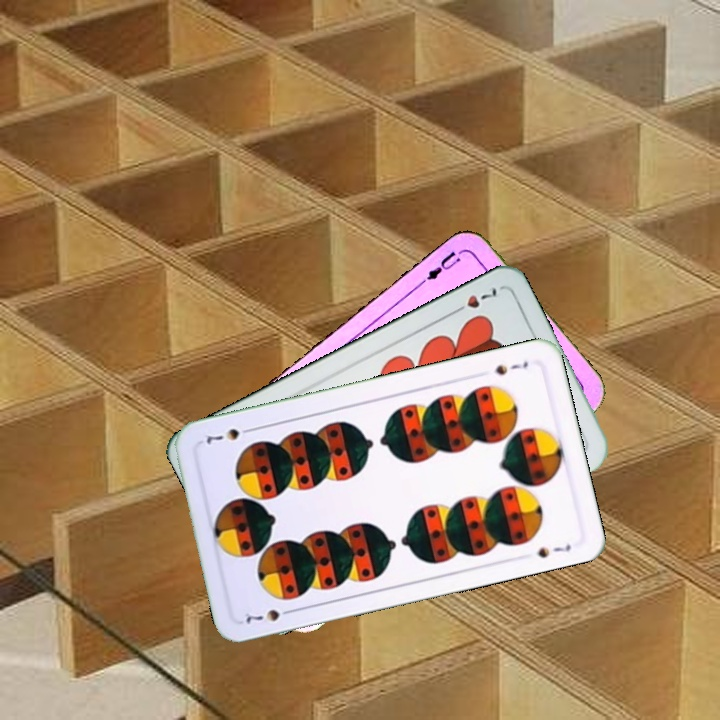EU: (419, 244, 475, 285)
H7: (448, 283, 500, 317)
S7: (241, 605, 297, 626), (491, 357, 531, 378)
